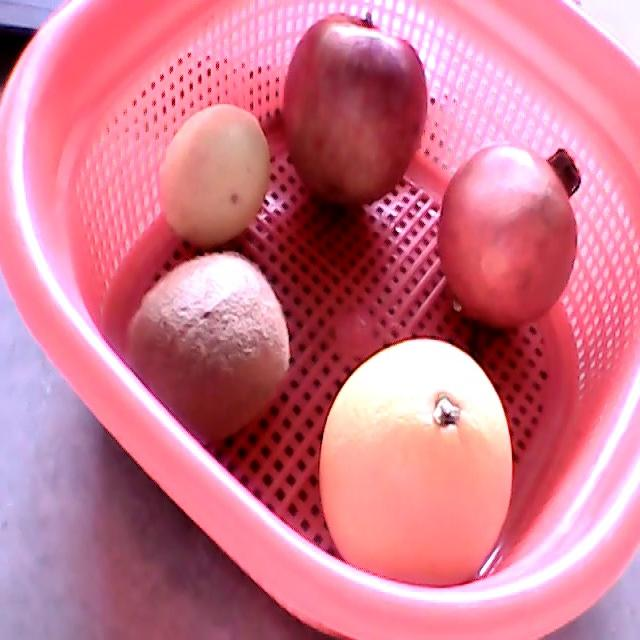apple: (284, 13, 429, 206)
kiwi: (126, 251, 290, 441)
lemon: (160, 105, 269, 245)
orange: (319, 338, 513, 588)
pomegranate: (439, 145, 583, 329)
